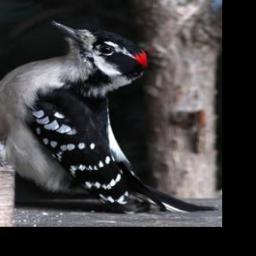Woodpecker: (0, 20, 217, 213)
